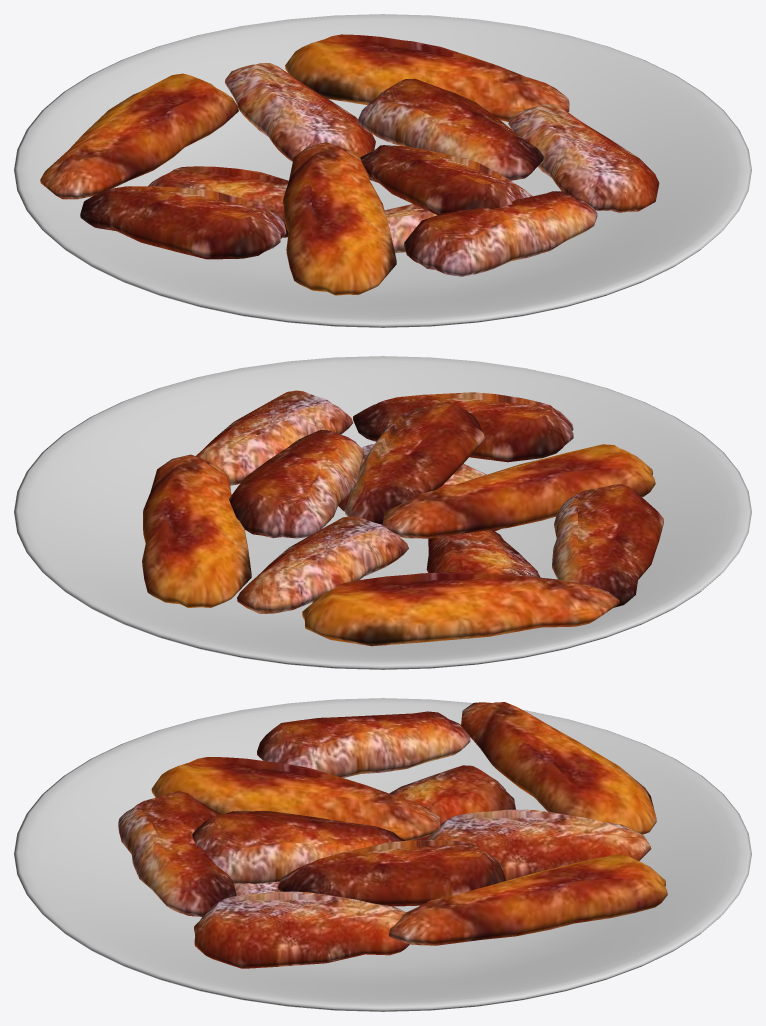
Rendered from menu3.glb.
3 renders of one model, top to bottom at view 1: azimuth 30°, elevation 25°; view 2: azimuth 150°, elevation 25°; view 3: azimuth 270°, elevation 25°, orthographic.
Parts seen in each view (by area): view 1: 48602dea-bbec-453a-8516-433e2973dac6.024, 48602dea-bbec-453a-8516-433e2973dac6.036, 48602dea-bbec-453a-8516-433e2973dac6.040, 48602dea-bbec-453a-8516-433e2973dac6.028, 48602dea-bbec-453a-8516-433e2973dac6.037, 48602dea-bbec-453a-8516-433e2973dac6.033, 48602dea-bbec-453a-8516-433e2973dac6.029, 48602dea-bbec-453a-8516-433e2973dac6.030, 48602dea-bbec-453a-8516-433e2973dac6.026, 48602dea-bbec-453a-8516-433e2973dac6.041, 48602dea-bbec-453a-8516-433e2973dac6.035, 48602dea-bbec-453a-8516-433e2973dac6.034; view 2: 48602dea-bbec-453a-8516-433e2973dac6.024, 48602dea-bbec-453a-8516-433e2973dac6.028, 48602dea-bbec-453a-8516-433e2973dac6.040, 48602dea-bbec-453a-8516-433e2973dac6.036, 48602dea-bbec-453a-8516-433e2973dac6.029, 48602dea-bbec-453a-8516-433e2973dac6.037, 48602dea-bbec-453a-8516-433e2973dac6.041, 48602dea-bbec-453a-8516-433e2973dac6.026, 48602dea-bbec-453a-8516-433e2973dac6.033, 48602dea-bbec-453a-8516-433e2973dac6.030, 48602dea-bbec-453a-8516-433e2973dac6.035, 48602dea-bbec-453a-8516-433e2973dac6.034; view 3: 48602dea-bbec-453a-8516-433e2973dac6.024, 48602dea-bbec-453a-8516-433e2973dac6.040, 48602dea-bbec-453a-8516-433e2973dac6.030, 48602dea-bbec-453a-8516-433e2973dac6.028, 48602dea-bbec-453a-8516-433e2973dac6.036, 48602dea-bbec-453a-8516-433e2973dac6.029, 48602dea-bbec-453a-8516-433e2973dac6.037, 48602dea-bbec-453a-8516-433e2973dac6.041, 48602dea-bbec-453a-8516-433e2973dac6.026, 48602dea-bbec-453a-8516-433e2973dac6.033, 48602dea-bbec-453a-8516-433e2973dac6.035.
Part boxes in pixels (x1,y1,x2,y2): 48602dea-bbec-453a-8516-433e2973dac6.024: [14, 14, 751, 327]; 48602dea-bbec-453a-8516-433e2973dac6.036: [283, 142, 396, 295]; 48602dea-bbec-453a-8516-433e2973dac6.040: [285, 34, 569, 121]; 48602dea-bbec-453a-8516-433e2973dac6.028: [40, 73, 238, 199]; 48602dea-bbec-453a-8516-433e2973dac6.037: [80, 186, 286, 259]; 48602dea-bbec-453a-8516-433e2973dac6.033: [404, 191, 597, 276]; 48602dea-bbec-453a-8516-433e2973dac6.029: [357, 78, 543, 180]; 48602dea-bbec-453a-8516-433e2973dac6.030: [508, 104, 659, 212]; 48602dea-bbec-453a-8516-433e2973dac6.026: [225, 63, 375, 161]; 48602dea-bbec-453a-8516-433e2973dac6.041: [360, 145, 527, 214]; 48602dea-bbec-453a-8516-433e2973dac6.035: [148, 166, 288, 237]; 48602dea-bbec-453a-8516-433e2973dac6.034: [384, 184, 532, 253]; 48602dea-bbec-453a-8516-433e2973dac6.024: [14, 356, 751, 669]; 48602dea-bbec-453a-8516-433e2973dac6.028: [302, 572, 619, 646]; 48602dea-bbec-453a-8516-433e2973dac6.040: [142, 454, 251, 607]; 48602dea-bbec-453a-8516-433e2973dac6.036: [382, 444, 655, 538]; 48602dea-bbec-453a-8516-433e2973dac6.029: [229, 430, 364, 538]; 48602dea-bbec-453a-8516-433e2973dac6.037: [552, 484, 663, 607]; 48602dea-bbec-453a-8516-433e2973dac6.041: [344, 401, 484, 524]; 48602dea-bbec-453a-8516-433e2973dac6.026: [237, 516, 408, 613]; 48602dea-bbec-453a-8516-433e2973dac6.033: [353, 392, 573, 462]; 48602dea-bbec-453a-8516-433e2973dac6.030: [196, 390, 352, 485]; 48602dea-bbec-453a-8516-433e2973dac6.035: [426, 530, 540, 577]; 48602dea-bbec-453a-8516-433e2973dac6.034: [338, 444, 501, 531]; 48602dea-bbec-453a-8516-433e2973dac6.024: [14, 698, 751, 1011]; 48602dea-bbec-453a-8516-433e2973dac6.040: [389, 854, 667, 945]; 48602dea-bbec-453a-8516-433e2973dac6.030: [194, 891, 409, 968]; 48602dea-bbec-453a-8516-433e2973dac6.028: [461, 702, 656, 834]; 48602dea-bbec-453a-8516-433e2973dac6.036: [151, 757, 440, 840]; 48602dea-bbec-453a-8516-433e2973dac6.029: [278, 840, 505, 906]; 48602dea-bbec-453a-8516-433e2973dac6.037: [257, 711, 470, 777]; 48602dea-bbec-453a-8516-433e2973dac6.041: [192, 811, 404, 884]; 48602dea-bbec-453a-8516-433e2973dac6.026: [427, 809, 651, 880]; 48602dea-bbec-453a-8516-433e2973dac6.033: [118, 791, 236, 916]; 48602dea-bbec-453a-8516-433e2973dac6.035: [389, 765, 515, 840].
Bounding box in the file's own units: 0.666 × 0.0896 × 0.666.
2 materials, 1 textured.
